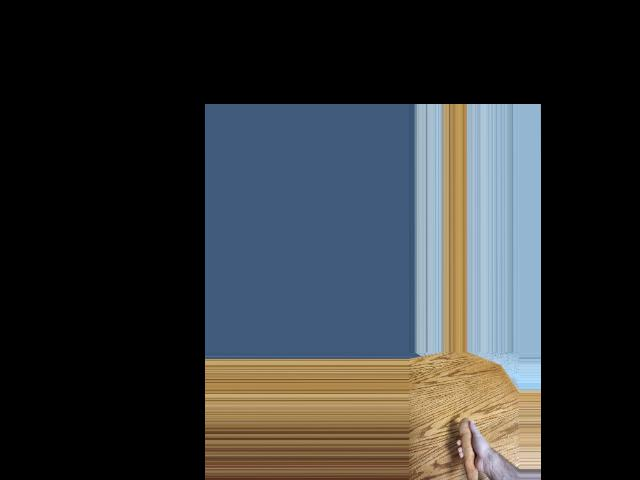sweet_potato: (456, 419, 480, 480)
